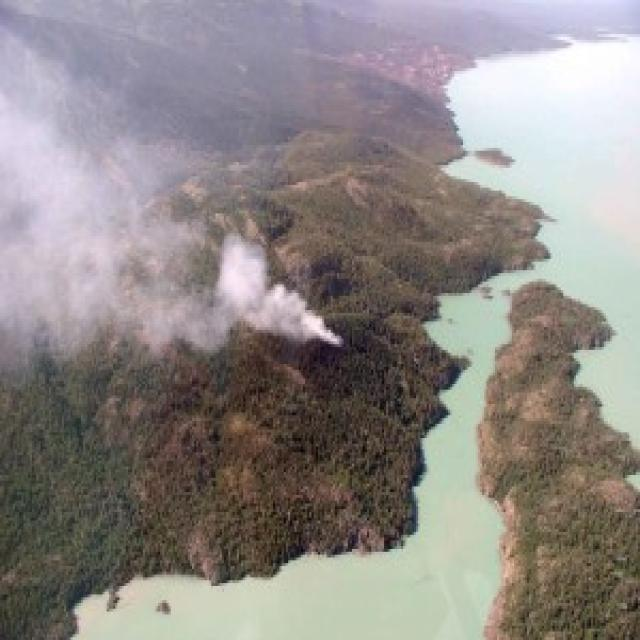Smoke: (0, 99, 332, 362)
